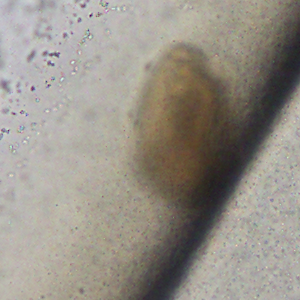Fasciola_hepatica_egg: (129, 39, 237, 214)
